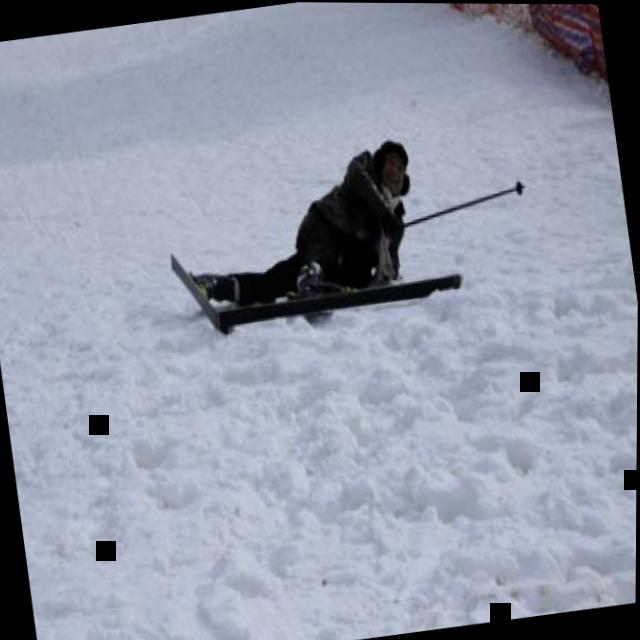Fall-Detected: (149, 120, 446, 338)
